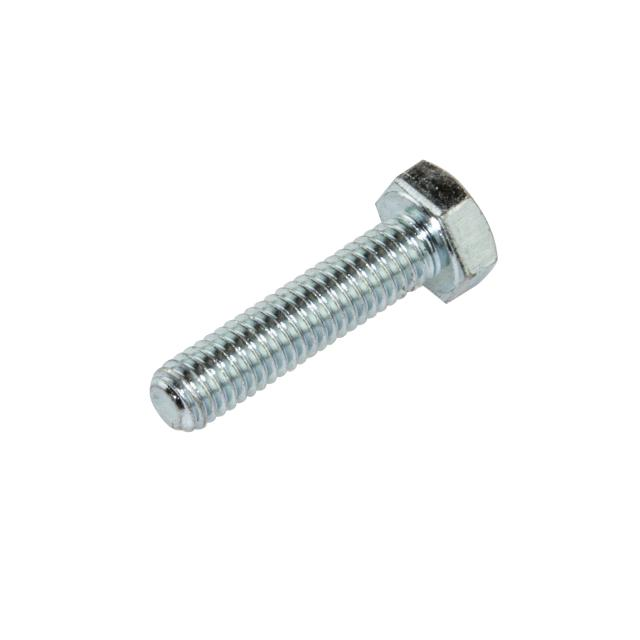Bolt: (146, 162, 501, 436)
